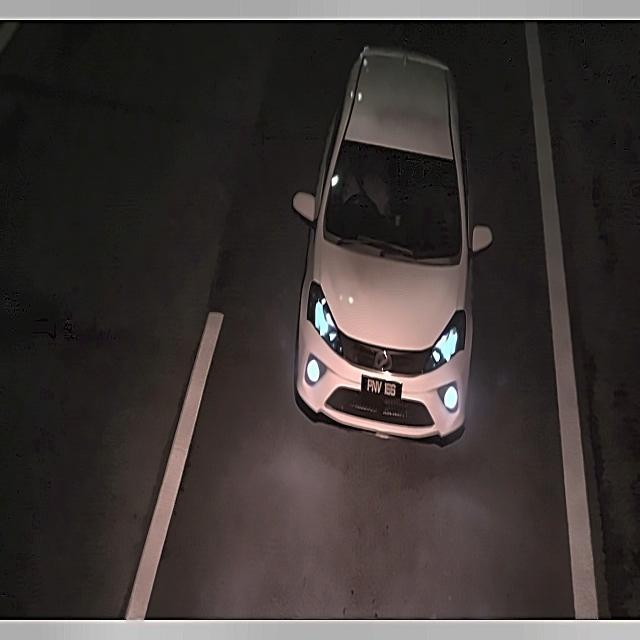car: (354, 363, 408, 407)
